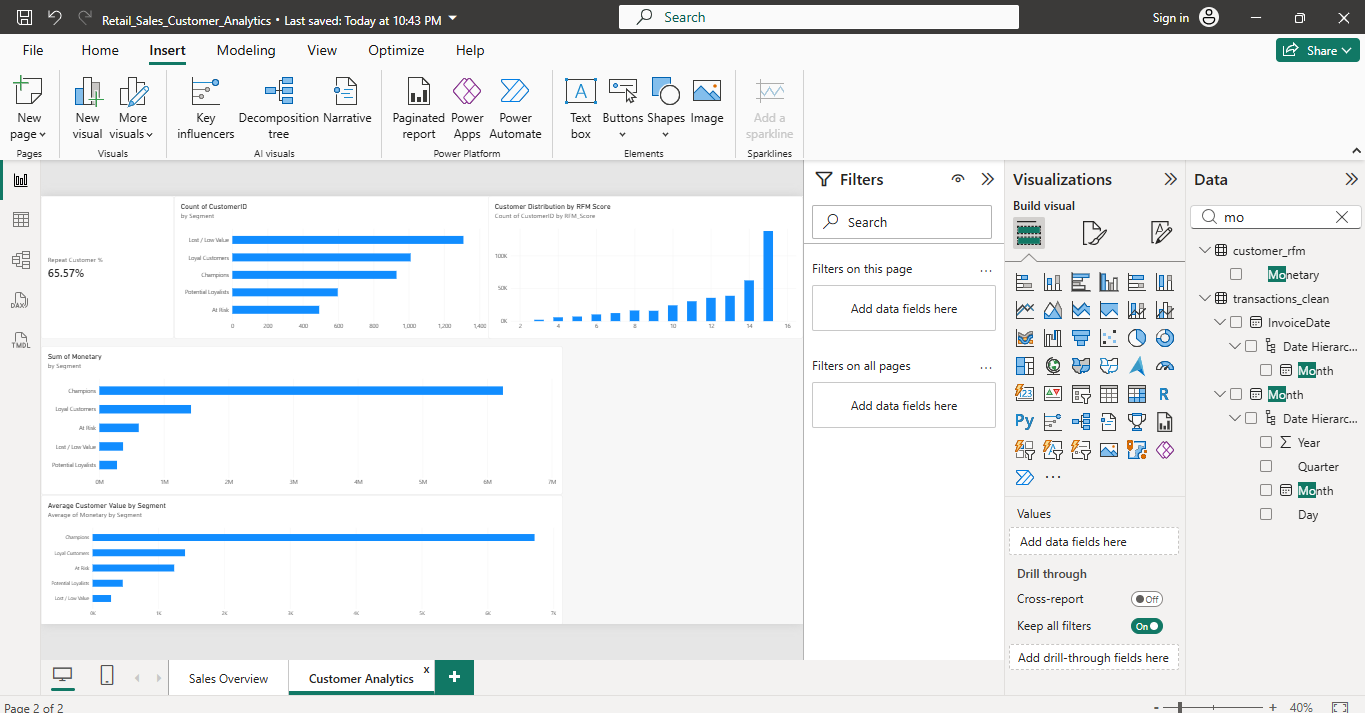

The dashboard page shown, as its layout file describes it:
{"tool":"powerbi","page":{"name":"Customer Analytics","canvas":[1920,1080],"ordinal":1},"visuals":[{"type":"cardVisual","fields":{"Data":["transactions_clean.Repeat Customer %"]},"box":[0,0,335.1,360.3],"z":0},{"type":"clusteredBarChart","fields":{"Category":["customer_rfm.Segment"],"Y":["CountNonNull(customer_rfm.CustomerID)"]},"box":[335.1,0,803.8,360.3],"z":1},{"type":"clusteredBarChart","fields":{"Category":["customer_rfm.Segment"],"Y":["Sum(customer_rfm.Monetary)"]},"box":[0,378,1315.3,375.4],"z":2},{"type":"clusteredColumnChart","title":"Customer Distribution by RFM Score","fields":{"Category":["customer_rfm.RFM_Score"],"Y":["CountNonNull(transactions_clean.CustomerID)"]},"box":[1126.3,0,793.7,360.3],"z":3},{"type":"clusteredBarChart","title":"Average Customer Value by Segment","fields":{"Category":["customer_rfm.Segment"],"Y":["Avg(customer_rfm.Monetary)"]},"box":[0,753.4,1315.3,327.6],"z":4},{"type":"textbox","box":[1315,378,605,375],"z":5}]}

Visuals, with their boxes on the page's 1920x1080 design canvas (x1, y1, x2, y2). These are canvas units, not pixel positions in the 1365x713 screenshot, which may show the page scaled, cropped or inside an application window:
cardVisual - transactions_clean.Repeat Customer %: {"left": 0, "top": 0, "right": 335, "bottom": 360}
clusteredBarChart - customer_rfm.Segment x CountNonNull(customer_rfm.CustomerID): {"left": 335, "top": 0, "right": 1139, "bottom": 360}
clusteredBarChart - customer_rfm.Segment x Sum(customer_rfm.Monetary): {"left": 0, "top": 378, "right": 1315, "bottom": 753}
"Customer Distribution by RFM Score" clusteredColumnChart: {"left": 1126, "top": 0, "right": 1920, "bottom": 360}
"Average Customer Value by Segment" clusteredBarChart: {"left": 0, "top": 753, "right": 1315, "bottom": 1081}
textbox: {"left": 1315, "top": 378, "right": 1920, "bottom": 753}
